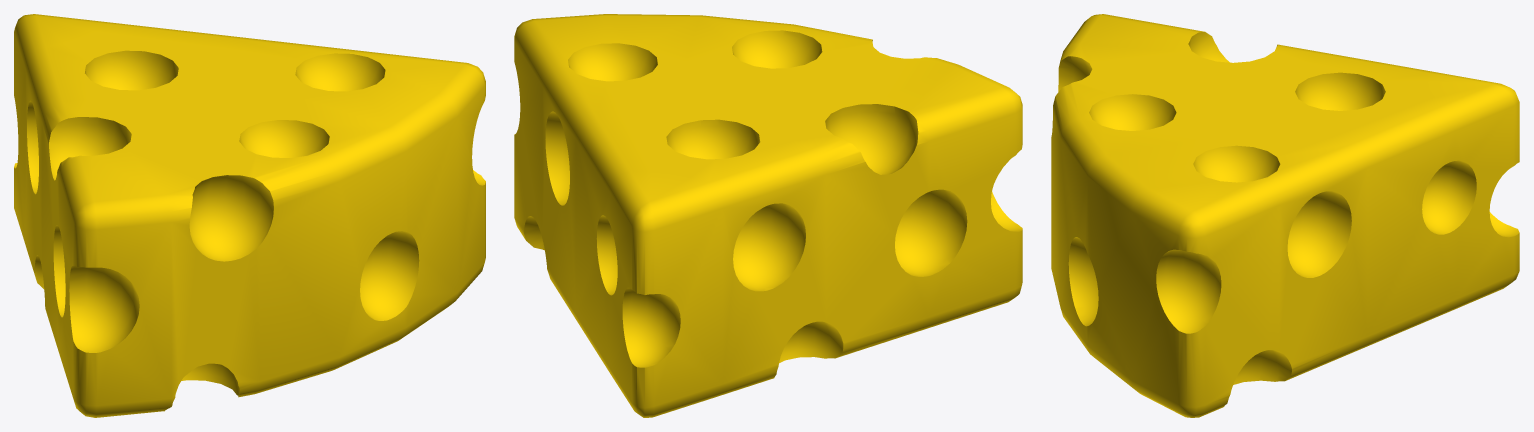
The model's file is SM_Cheese.fbx.
3 views of the same model, side by side, from view 1: azimuth 30°, elevation 25°; view 2: azimuth 150°, elevation 25°; view 3: azimuth 270°, elevation 25° (orthographic). The views are drawn at different scales.
Parts seen in each view (by area): view 1: SM_Cheese; view 2: SM_Cheese; view 3: SM_Cheese.
Part boxes in pixels (x1,y1,x2,y2): SM_Cheese: (14,14,485,417); SM_Cheese: (514,14,1022,417); SM_Cheese: (1051,14,1519,417).
Size of the model in its own units: 74.48 by 33.43 by 69.11.
